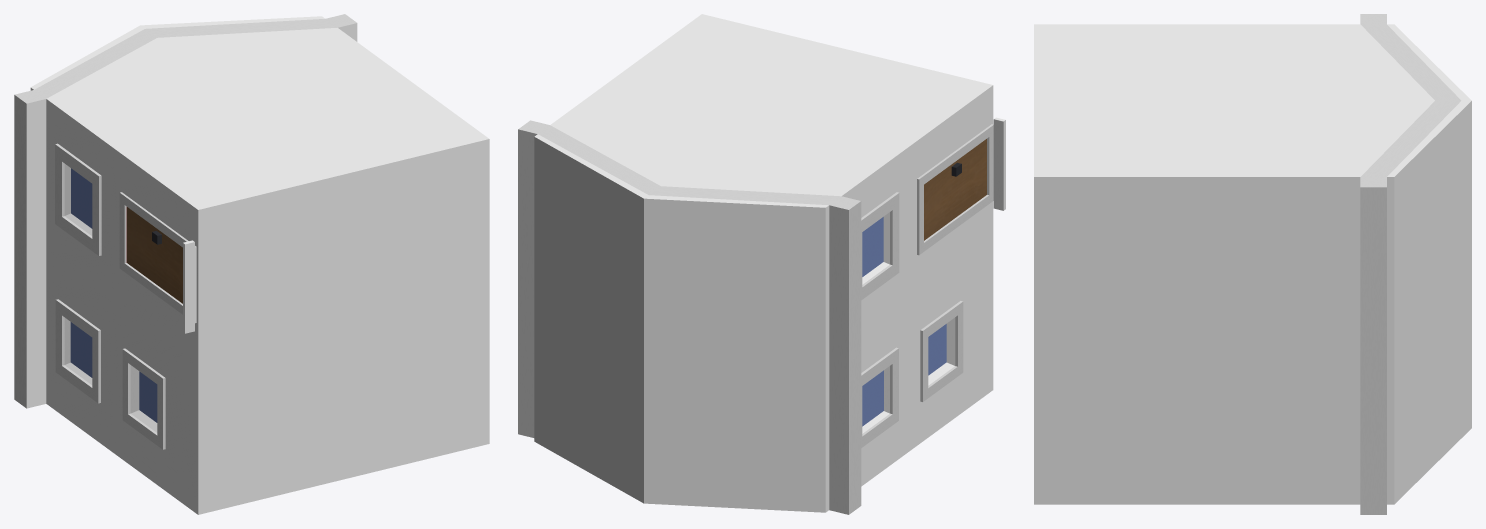
The model's file is venice_building_17.fbx.
The picture shows the model from 3 angles, left to right: view 1: azimuth 30°, elevation 25°; view 2: azimuth 150°, elevation 25°; view 3: azimuth 270°, elevation 25°; orthographic projection. The views are drawn at different scales.
Visible parts, largest first — view 1: Cube.360; view 2: Cube.360; view 3: Cube.360.
Boxes of the visible parts, x1,y1,x2,y2 form: Cube.360: (14,14,489,514); Cube.360: (518,14,1005,514); Cube.360: (1034,14,1471,514).
Bounding box in the file's own units: 897 × 790 × 956.
